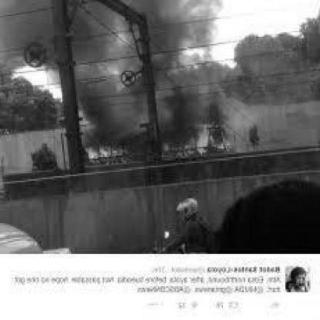Fire: (75, 113, 249, 170)
